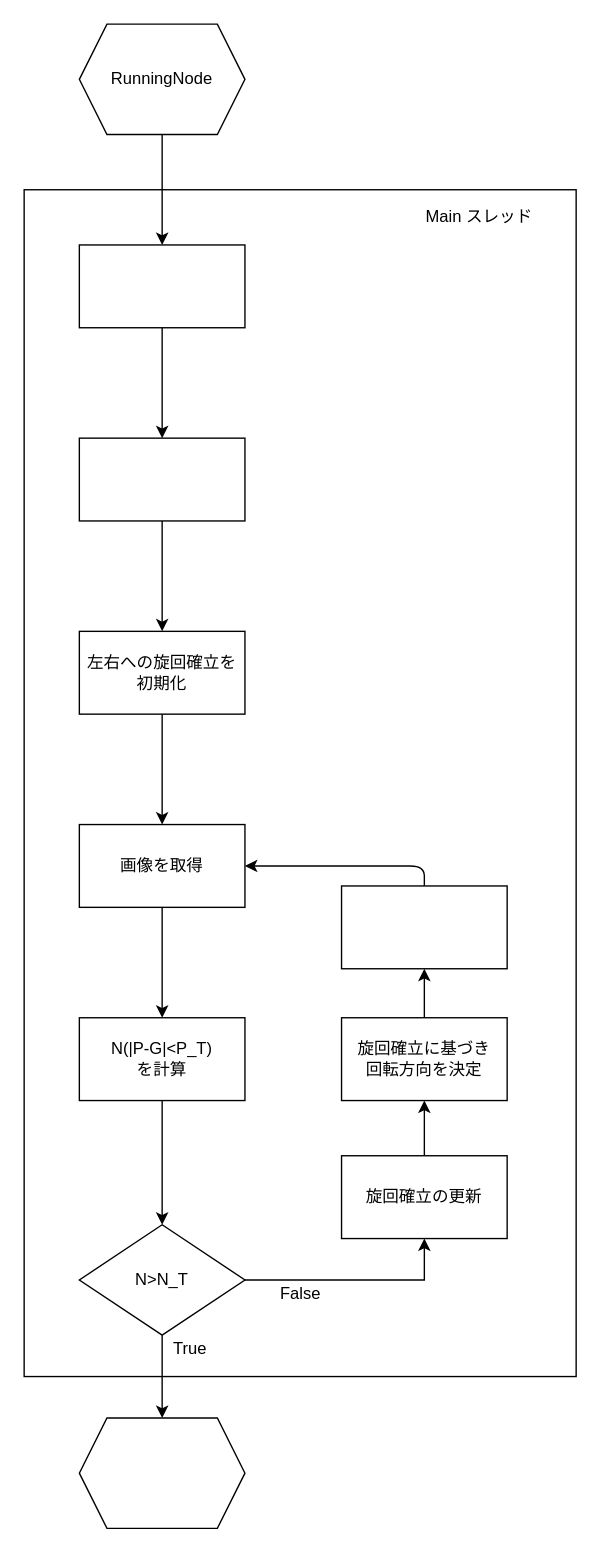
The diagram is 600 pixels wide and 1553 high, and some of its shapes have lost their labels. The shapes that lost their labels are listed below. From the top down, each one's centre as x and y in pixels, then its label:
[161,286]: 位置・進行方向 の情報を取得
[161,479]: ゴール方向へ旋回
[423,927]: 決定された回転方向へ旋回
[161,1472]: GoalDetectNode
